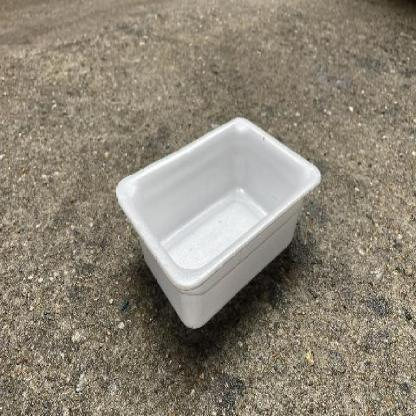Glass Cup: (115, 118, 322, 330), (115, 117, 321, 329)
